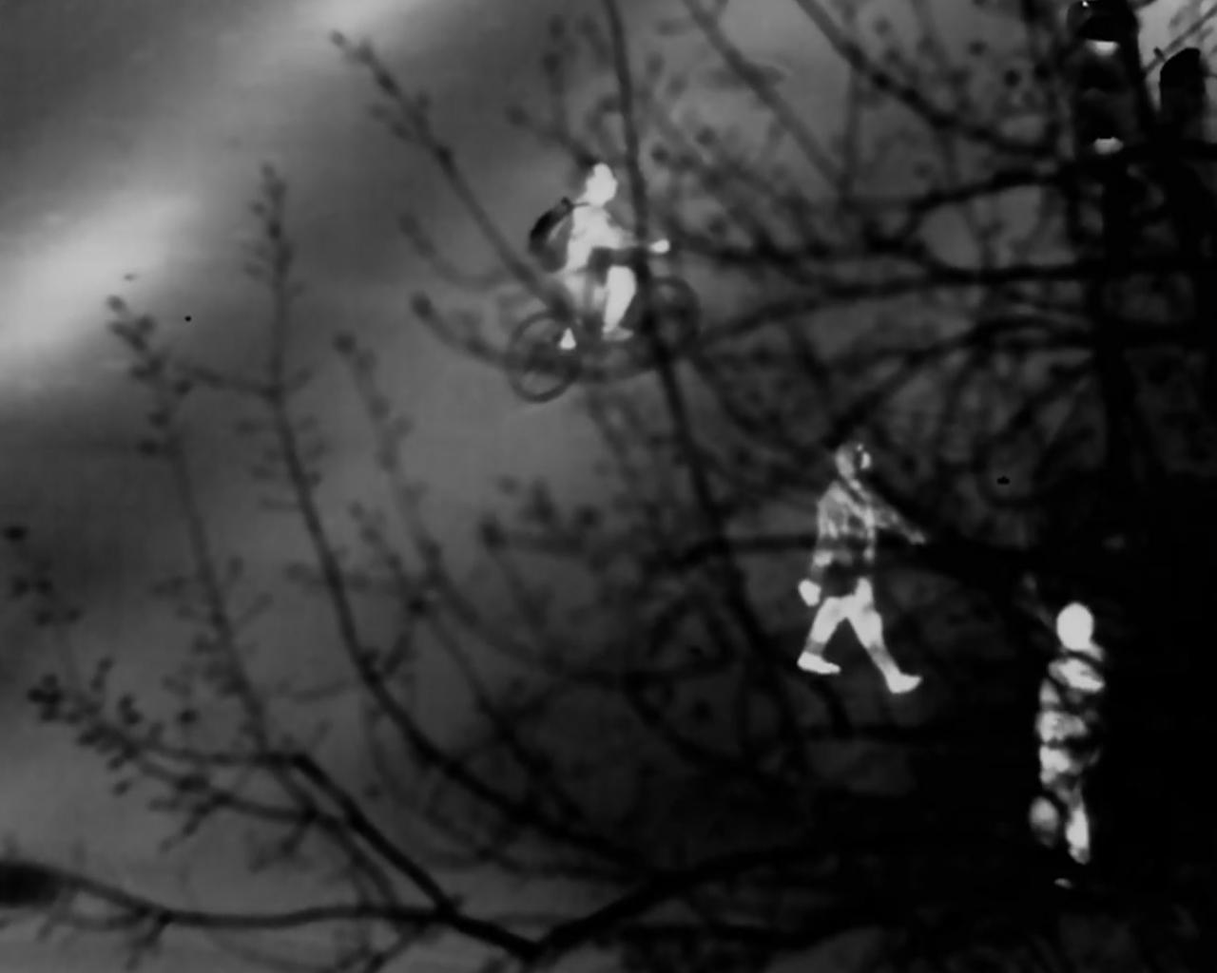person: (793, 447, 928, 699), (535, 150, 662, 350), (1019, 598, 1095, 861)
